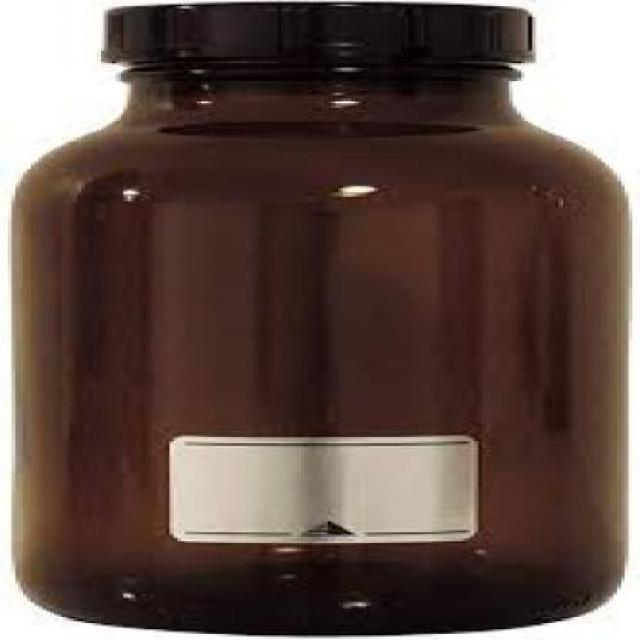kaca: (5, 60, 629, 637)
